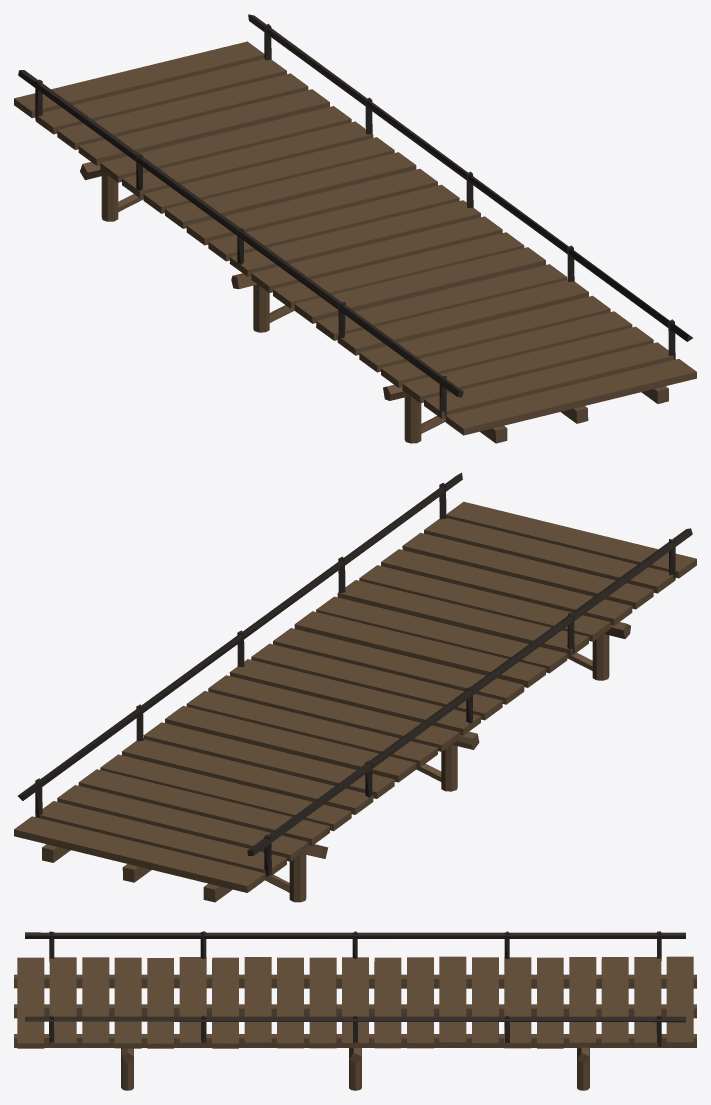
The picture shows the model from 3 angles, top to bottom: view 1: azimuth 30°, elevation 25°; view 2: azimuth 150°, elevation 25°; view 3: azimuth 270°, elevation 25°; orthographic projection. The views are drawn at different scales.
Parts seen in each view (by area): view 1: visual_lod; view 2: visual_lod; view 3: visual_lod.
Boxes of the visible parts, x1=… form: visual_lod: x1=14, y1=14, x2=696, y2=443; visual_lod: x1=14, y1=472, x2=696, y2=902; visual_lod: x1=14, y1=931, x2=696, y2=1090.
Size of the model in its own units: 5.5 by 2.3 by 17.98.
